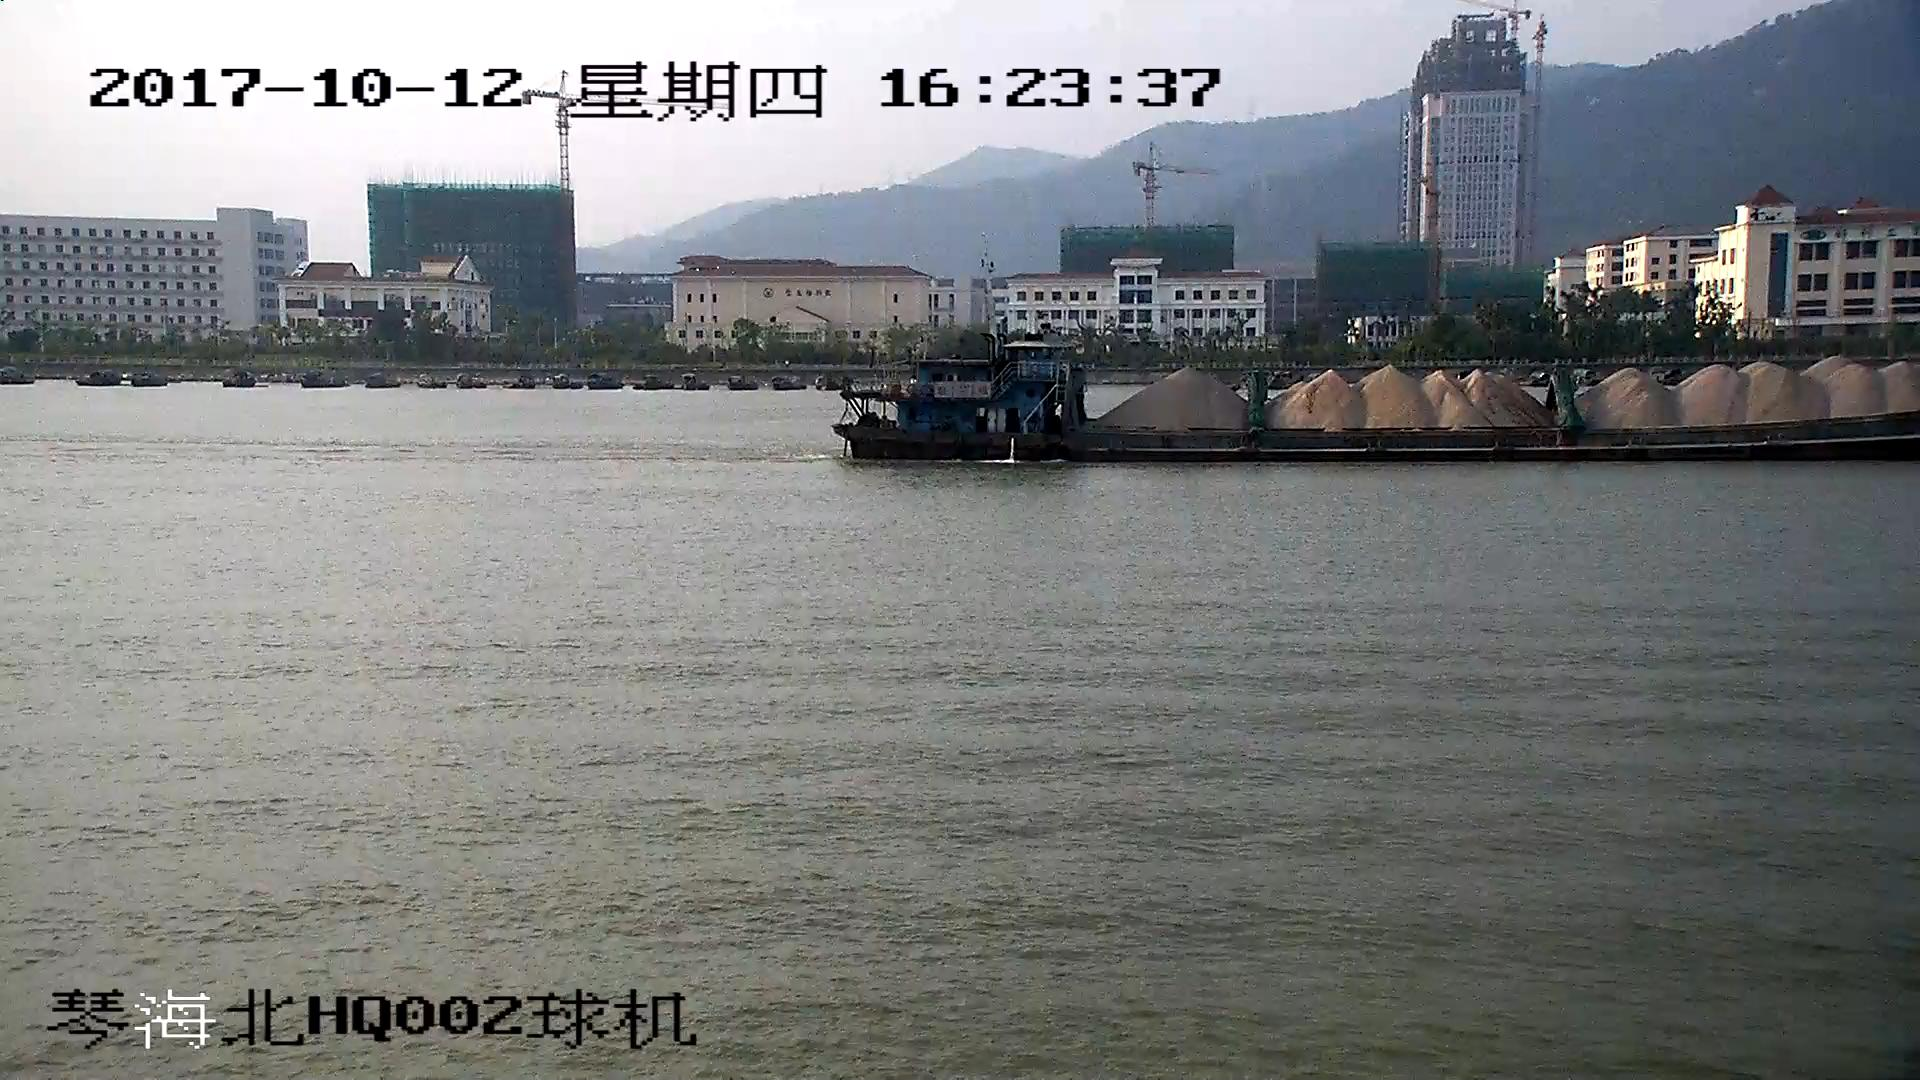ore carrier: (836, 348, 1920, 468)
